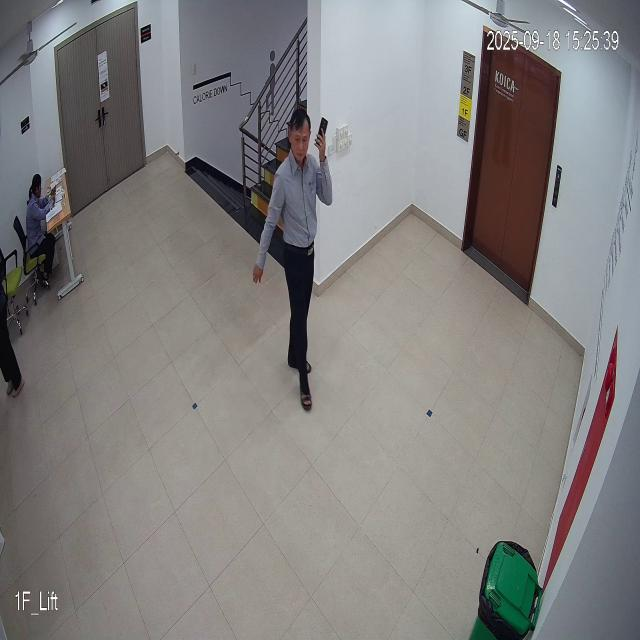face: (284, 107, 314, 165)
